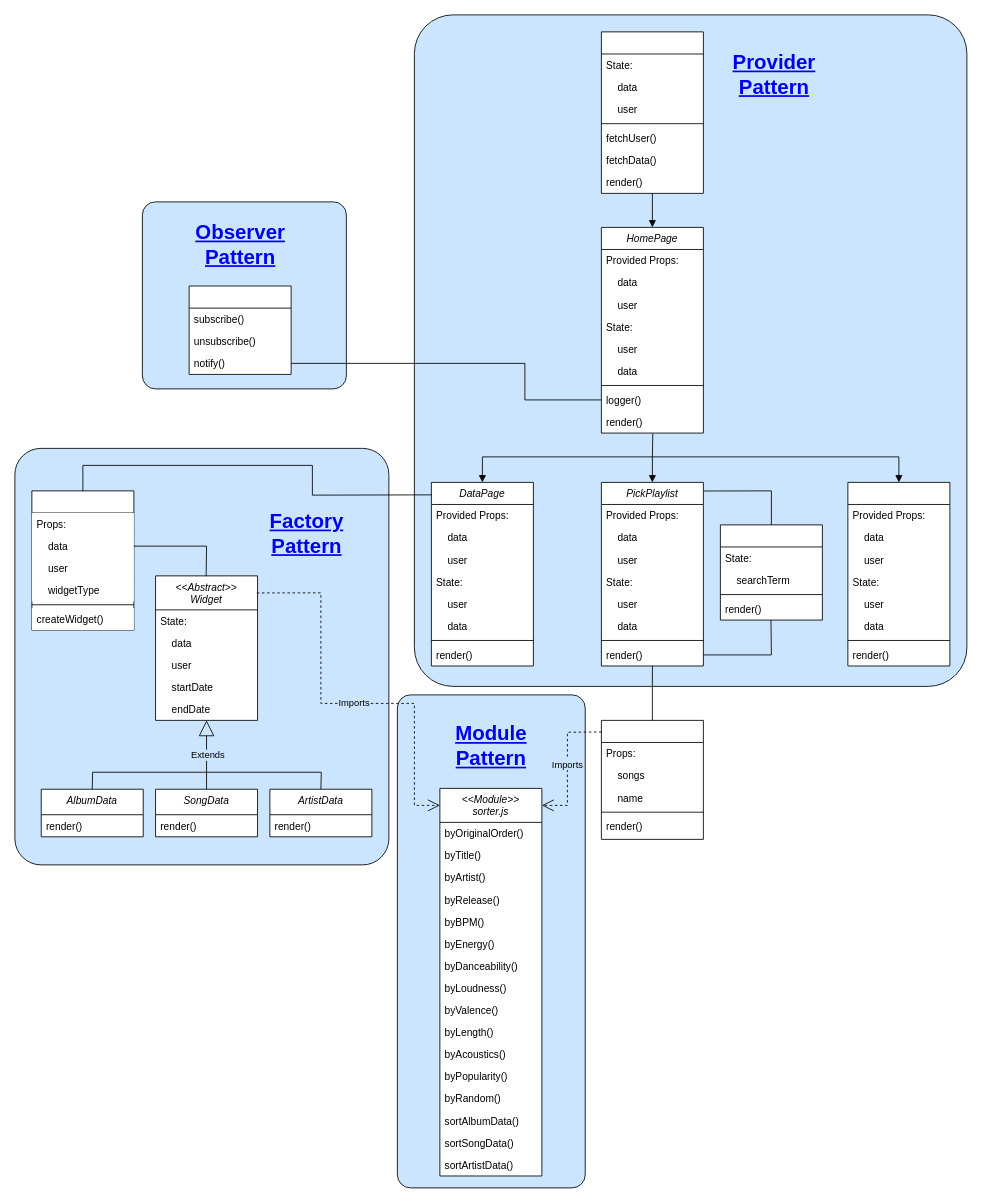
Image size: 982x1203. Some labels were removed from this diagram. The shapes that lost their labels are listed below. From the top down, each one's box as (x1, y1, x2, y2) in pixels, then its label:
(601, 31, 703, 193): SignInProvider
(188, 285, 291, 374): Obervable
(31, 490, 134, 630): WidgetFactory
(720, 524, 822, 620): SearchBar
(847, 482, 950, 666): SettingsPage
(601, 720, 703, 839): PlaylistPage
